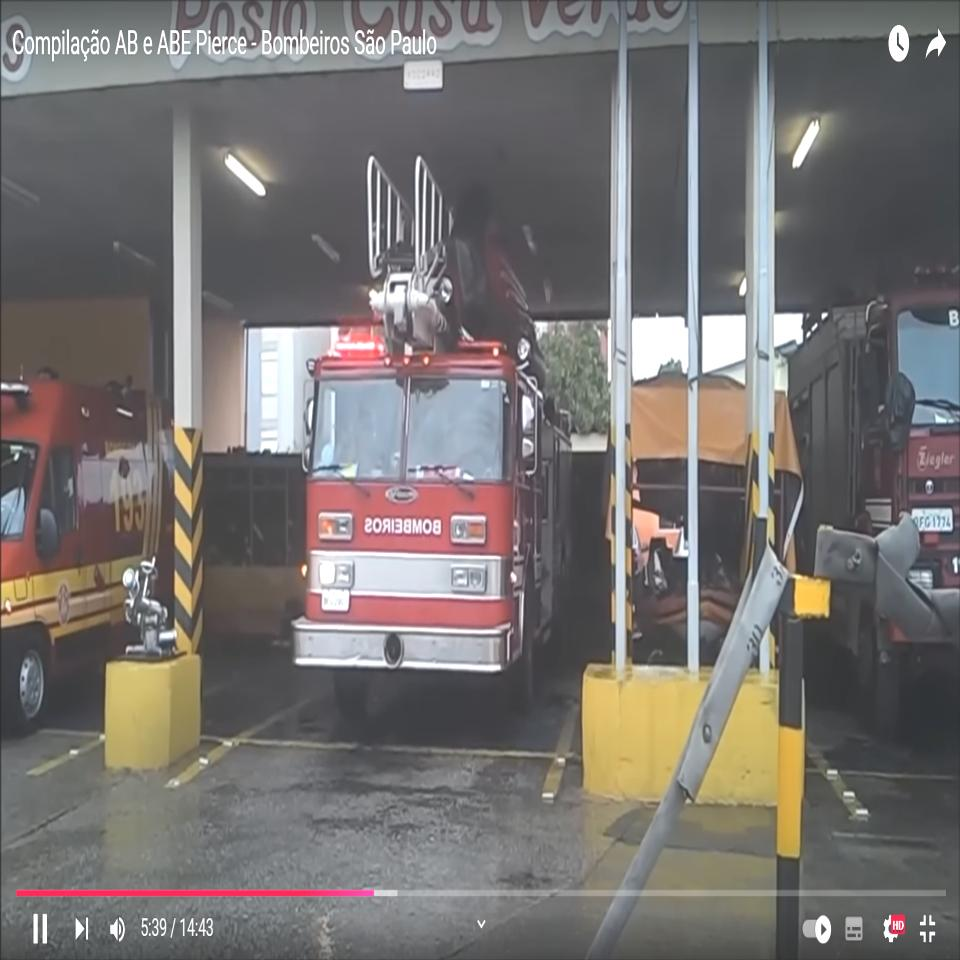bombeiro: (287, 149, 578, 732)
